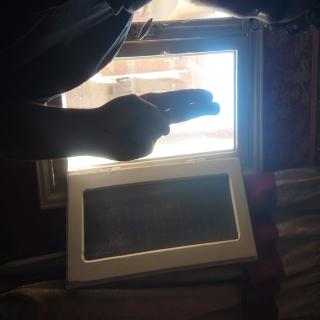TA: (63, 128, 129, 296)
